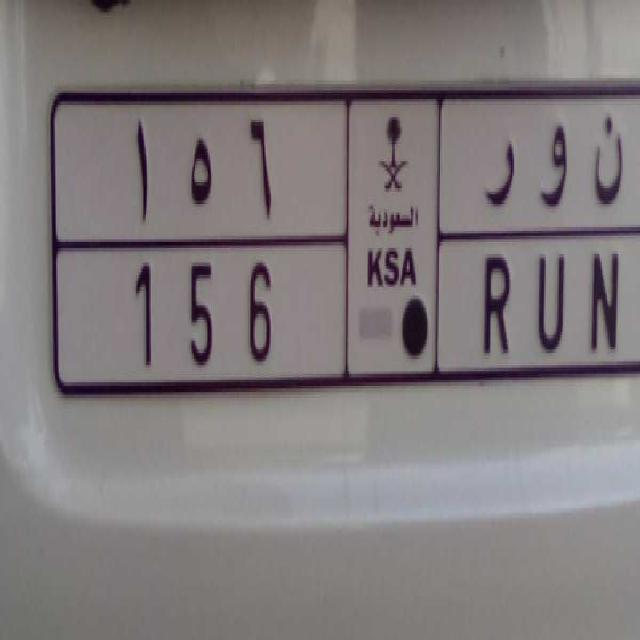license_plate: (107, 228, 633, 377)
